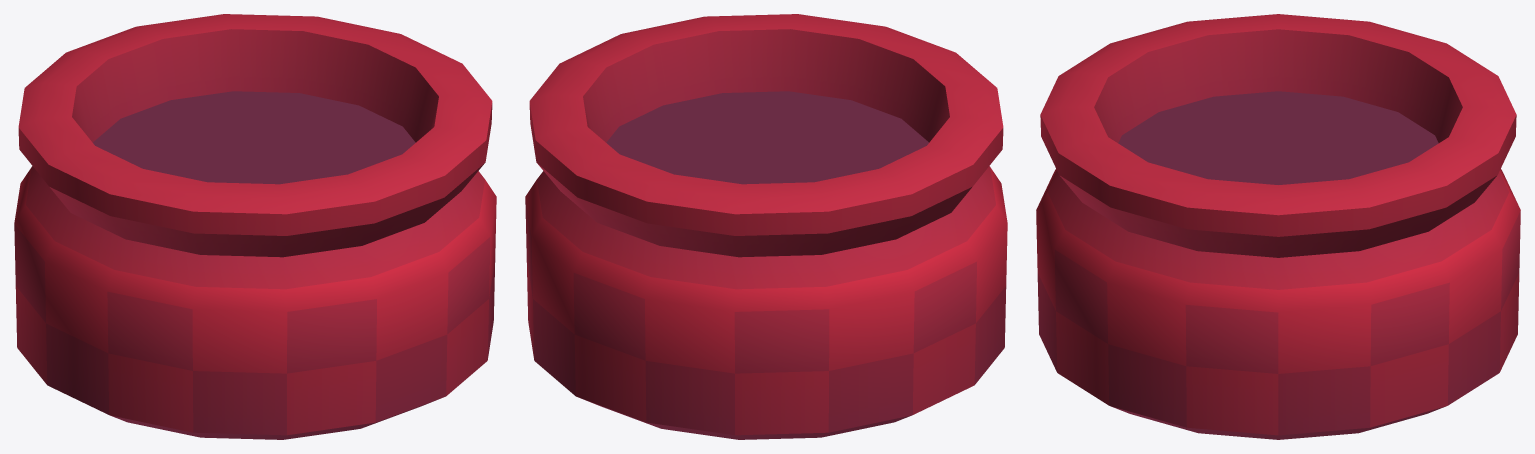
The model's file is christmas_tree_base.fbx.
The picture shows the model from 3 angles, left to right: view 1: azimuth 30°, elevation 25°; view 2: azimuth 150°, elevation 25°; view 3: azimuth 270°, elevation 25°; orthographic projection.
Parts seen in each view (by area): view 1: christmas_tree_base; view 2: christmas_tree_base; view 3: christmas_tree_base.
Part boxes in pixels (left/top/right/bottom): christmas_tree_base: left=14, top=14, right=496, bottom=439; christmas_tree_base: left=525, top=14, right=1007, bottom=439; christmas_tree_base: left=1036, top=14, right=1520, bottom=439.
Bounding box in the file's own units: 89.93 × 49.98 × 89.93.
